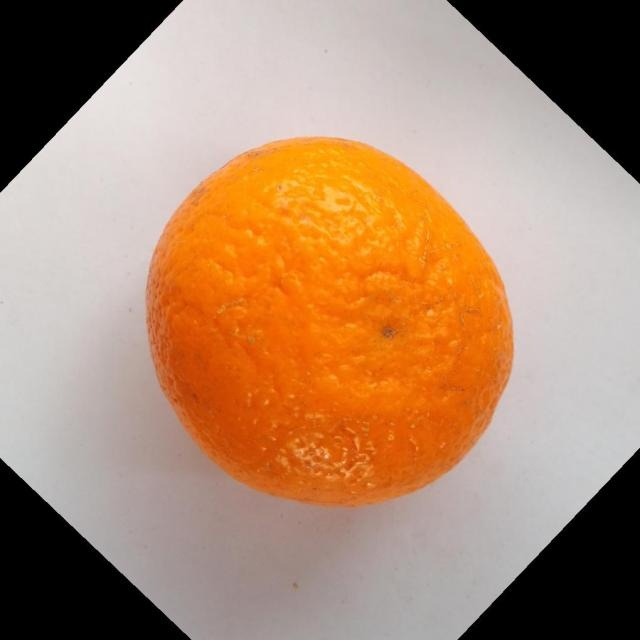agrume: (143, 134, 514, 508)
